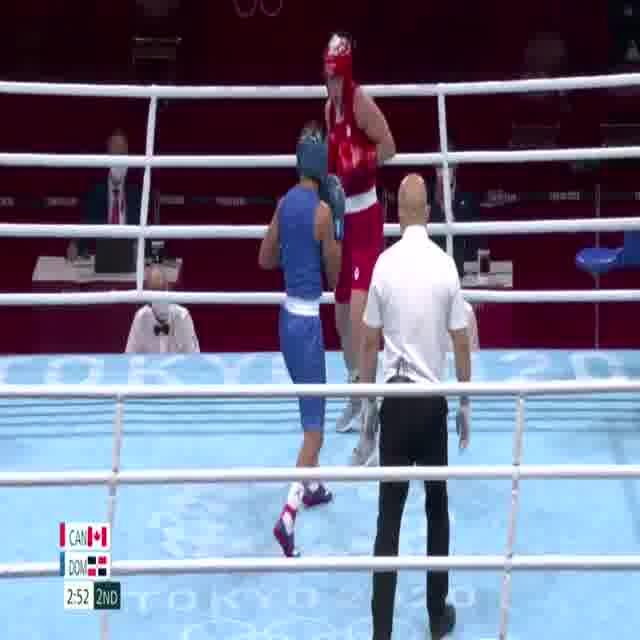blue-player: (252, 122, 348, 563)
red-player: (313, 25, 397, 472)
referee: (358, 172, 475, 640)
